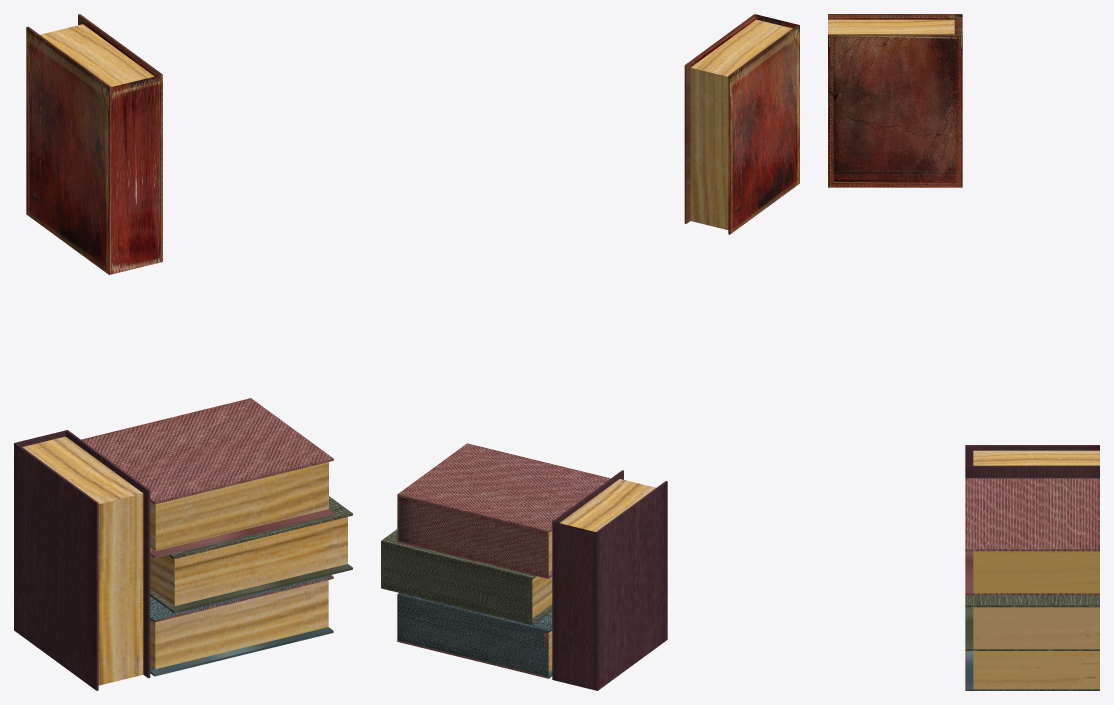
File: libros.fbx
The picture shows the model from 3 angles, left to right: view 1: azimuth 30°, elevation 25°; view 2: azimuth 150°, elevation 25°; view 3: azimuth 270°, elevation 25°; orthographic projection. The views are drawn at different scales.
Visible parts, largest first — view 1: libros; view 2: libros; view 3: libros.
Part boxes in pixels (box(x1,y1,x2,y2)): libros: box(14, 14, 352, 690); libros: box(381, 14, 799, 690); libros: box(828, 14, 1099, 690).
Size of the model in its own units: 36.66 by 72.86 by 32.34.
Materials: 1 (1 with a texture image).
